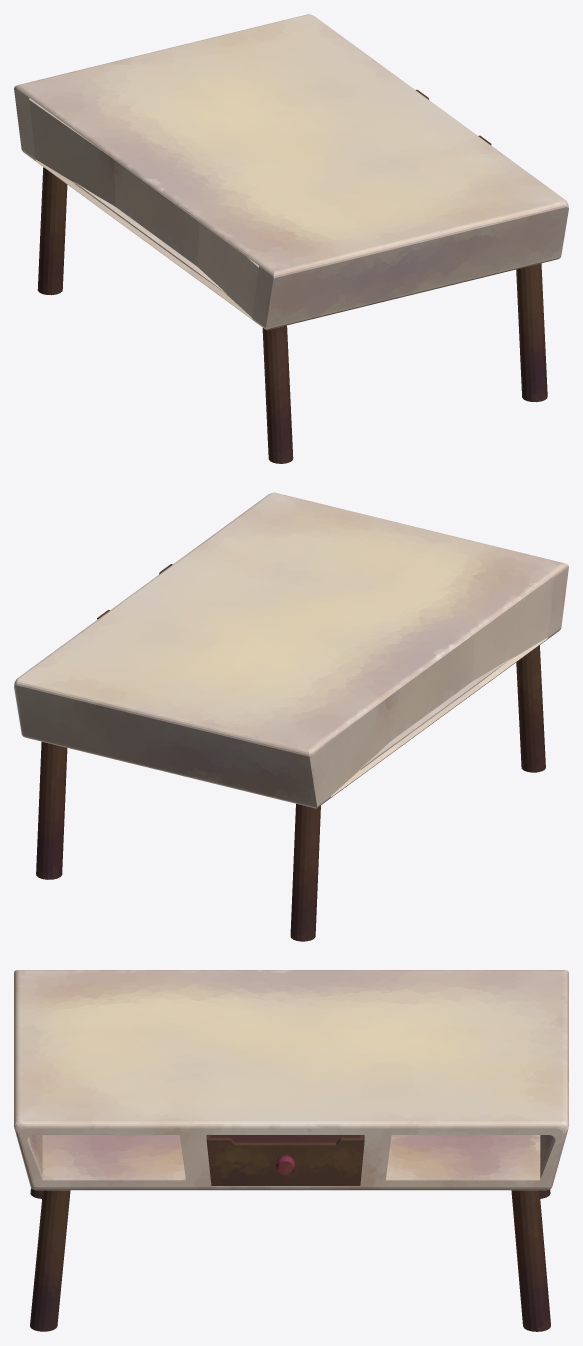
The model's file is table.fbx.
3 views of the same model, one above another, from view 1: azimuth 30°, elevation 25°; view 2: azimuth 150°, elevation 25°; view 3: azimuth 270°, elevation 25° (orthographic). The views are drawn at different scales.
Visible parts, largest first — view 1: Cube; view 2: Cube; view 3: Cube.
Boxes of the visible parts, x1,y1,x2,y2 form: Cube: (14,14,568,463); Cube: (14,492,568,941); Cube: (14,970,568,1331).
Bounding box in the file's own units: 298 × 180 × 422.
Materials: 3 (3 with a texture image).
